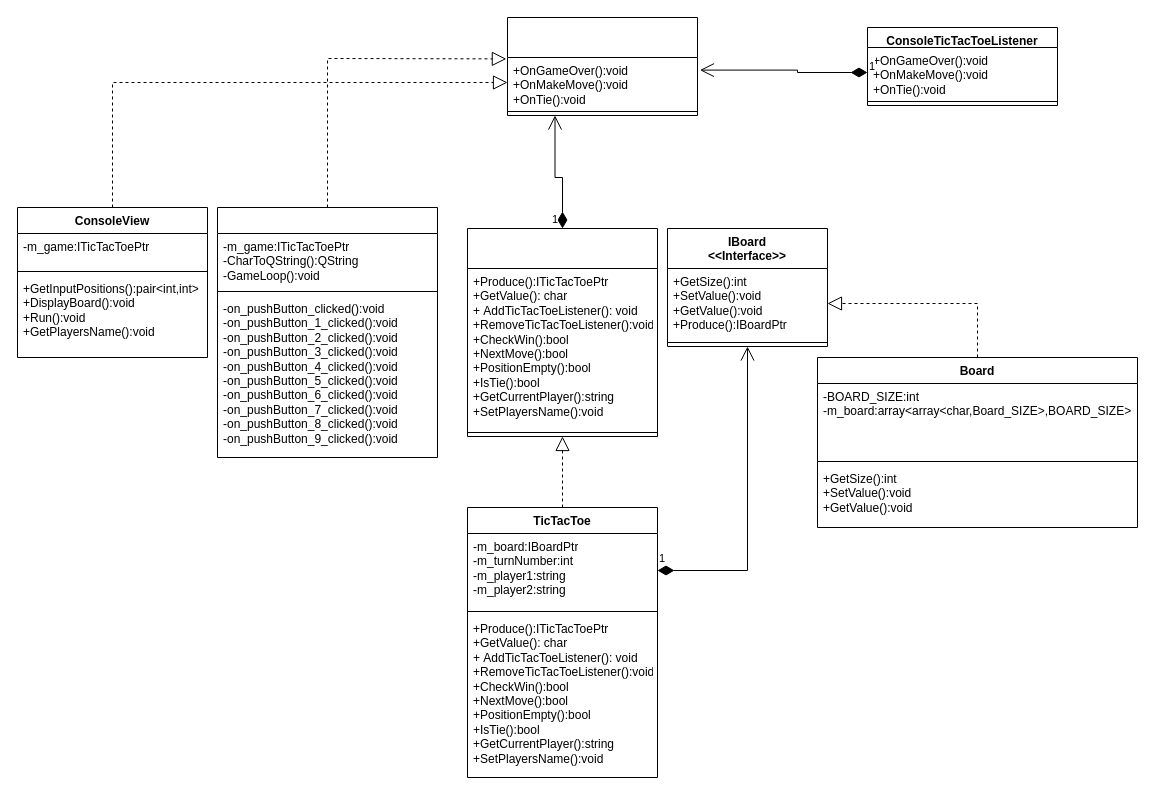
The diagram is 1155 pixels wide and 798 high, and some of its shapes have lost their labels. The box of each missing label's shape, as (x1, y1, x2, y2) in pixels:
ITicTacToe <<Interface>>: (466, 228, 658, 436)
ITicTacToeListener <<Interface>>: (506, 16, 698, 116)
QtView: (216, 206, 438, 458)
